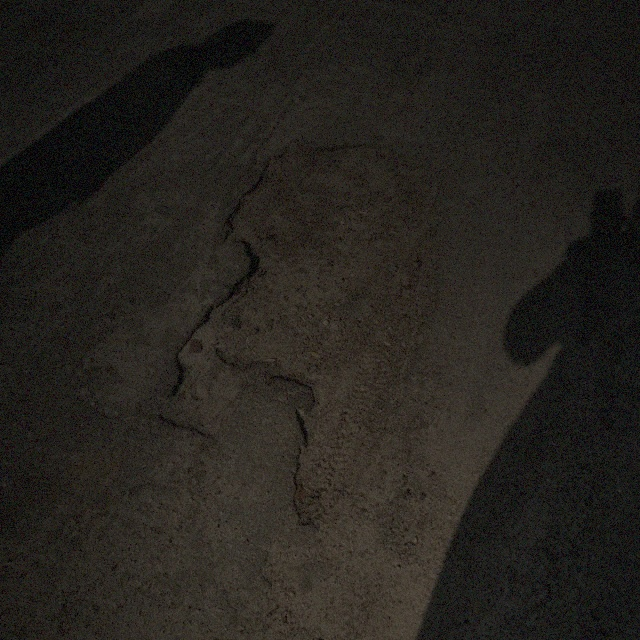pothole: (137, 133, 447, 528)
